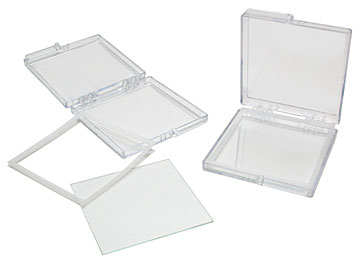PlasticBox: (201, 7, 353, 200), (22, 32, 209, 160)
